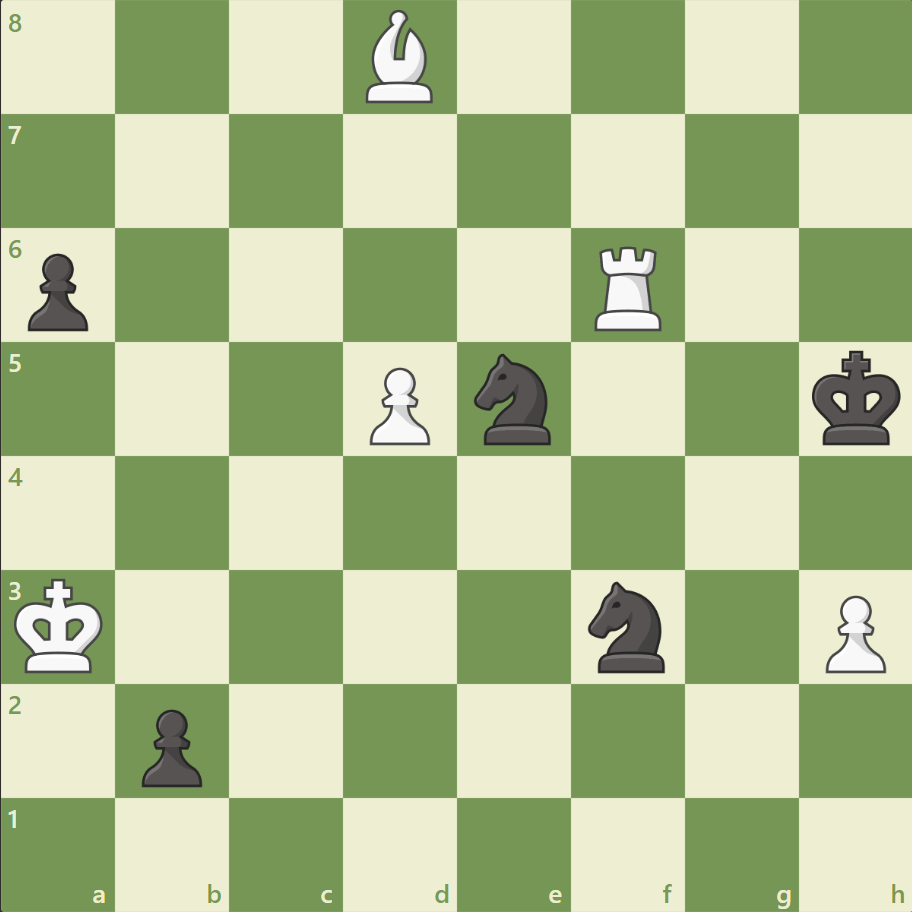B: (358, 6, 442, 109)
K: (11, 571, 111, 679)
P: (361, 359, 435, 450), (815, 586, 889, 677)
R: (587, 239, 670, 336)
k: (806, 344, 906, 452)
n: (465, 348, 562, 450), (579, 575, 676, 677)
p: (20, 246, 95, 337), (133, 700, 208, 791)
